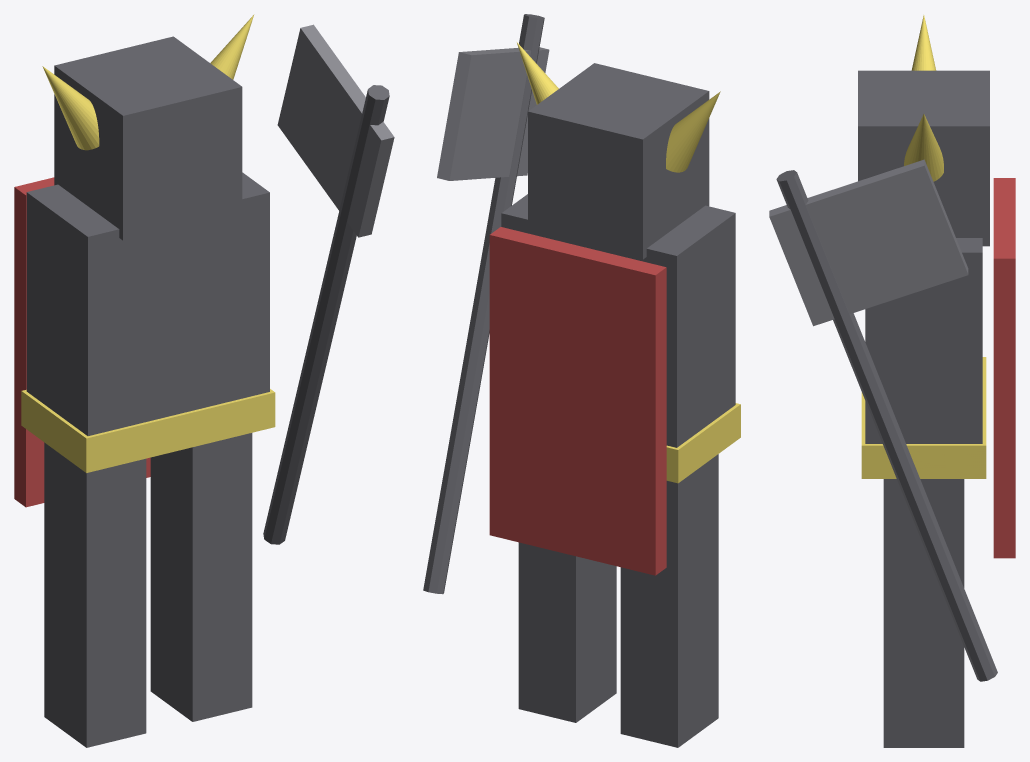
The model's file is bandit_warlord.glb.
The picture shows the model from 3 angles, left to right: view 1: azimuth 30°, elevation 25°; view 2: azimuth 150°, elevation 25°; view 3: azimuth 270°, elevation 25°; orthographic projection. The views are drawn at different scales.
Visible parts, largest first — view 1: Cube, Cube.002, Cube.004, Cube.005, Cube.006, Cylinder, Cube.001, Cube.003, Cone, Cone.001; view 2: Cube.003, Cube.002, Cube.004, Cube, Cube.005, Cube.006, Cylinder, Cube.001, Cone, Cone.001; view 3: Cube.005, Cube.006, Cube, Cube.002, Cylinder, Cube.003, Cube.001, Cone.001, Cone.
Boxes of the visible parts, x1,y1,x2,y2 form: Cube: (26, 172, 269, 435); Cube.002: (54, 36, 242, 240); Cube.004: (44, 442, 146, 747); Cube.005: (150, 433, 252, 721); Cube.006: (277, 24, 394, 237); Cylinder: (263, 85, 389, 544); Cube.001: (21, 389, 275, 472); Cube.003: (14, 177, 150, 507); Cone: (42, 66, 99, 150); Cone.001: (210, 14, 254, 79); Cube.003: (489, 227, 666, 575); Cube.002: (528, 63, 709, 259); Cube.004: (620, 454, 718, 747); Cube: (501, 194, 735, 447); Cube.005: (518, 542, 616, 722); Cube.006: (437, 47, 549, 180); Cylinder: (423, 14, 544, 594); Cube.001: (666, 403, 740, 483); Cone: (666, 91, 720, 172); Cone.001: (517, 42, 558, 104); Cube.005: (883, 479, 964, 747); Cube.006: (769, 159, 968, 326); Cube: (865, 238, 982, 443); Cube.002: (858, 70, 989, 246); Cylinder: (776, 170, 997, 681); Cube.003: (993, 178, 1015, 558); Cube.001: (861, 357, 986, 478); Cone.001: (904, 114, 943, 181); Cone: (911, 15, 936, 70).
Size of the model in its own units: 0.8303 by 1.94 by 0.6713.
